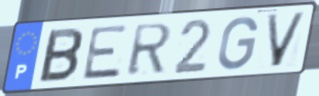2: (170, 17, 212, 77)
B: (36, 27, 85, 85)
E: (80, 23, 131, 82)
G: (216, 15, 260, 72)
R: (125, 22, 174, 79)
V: (264, 11, 309, 70)
